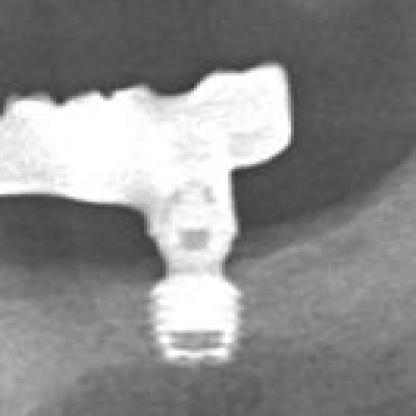Bicon: (147, 272, 245, 366)
